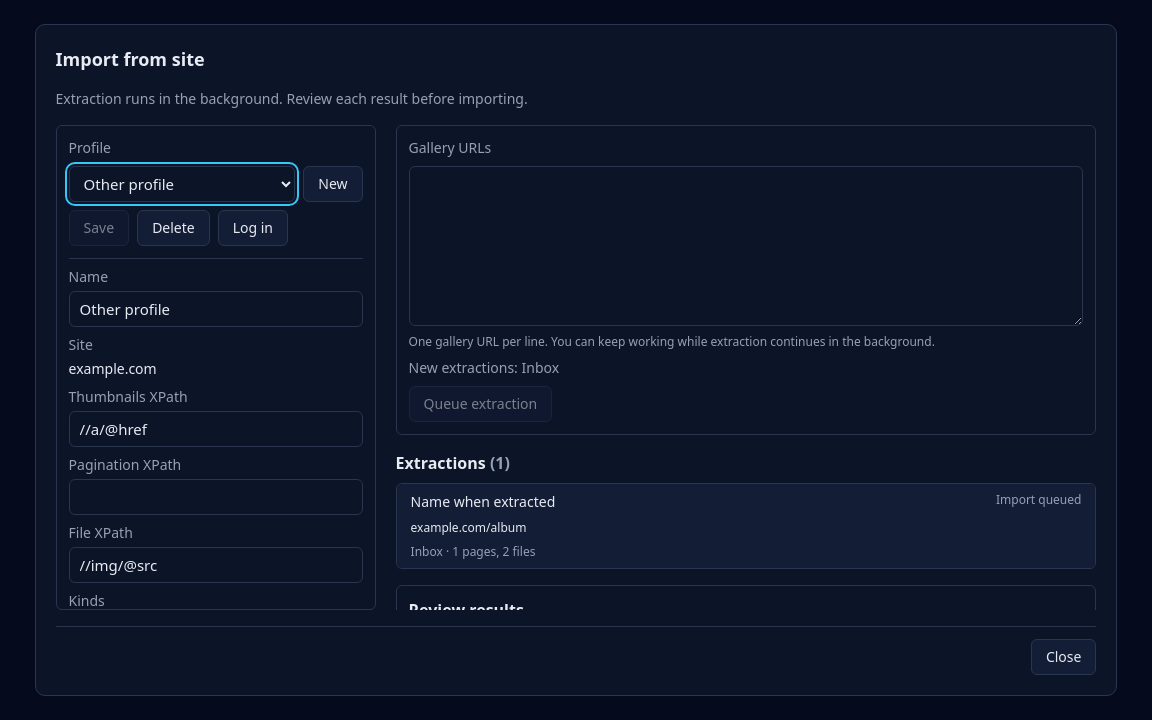
loads the selected extraction live profile for editing instead of the first profile
The width and height of the screenshot is (1152, 720).
Check: the field labelled "Name" holds "Other profile", box [69,291,363,327]
Click the button that starts with "Name when extracted": (483, 502) [397,484,1096,568]
(page scrolled)
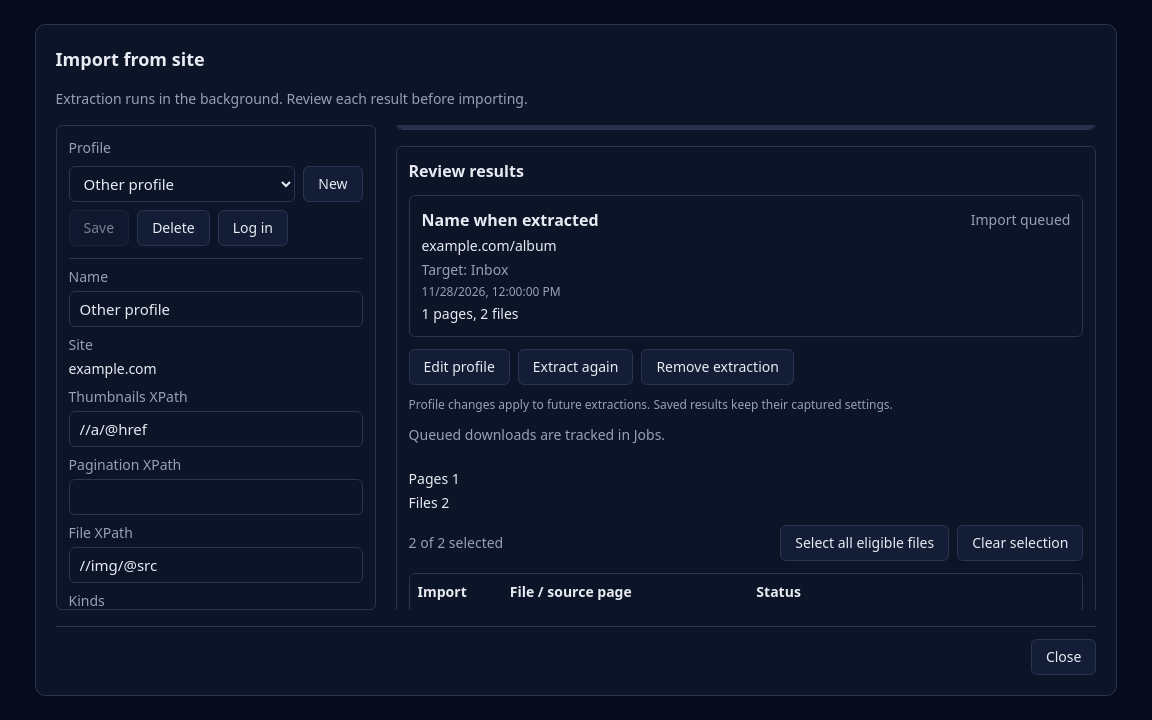
Click the button "Edit profile": (459, 367) [409,349,510,385]
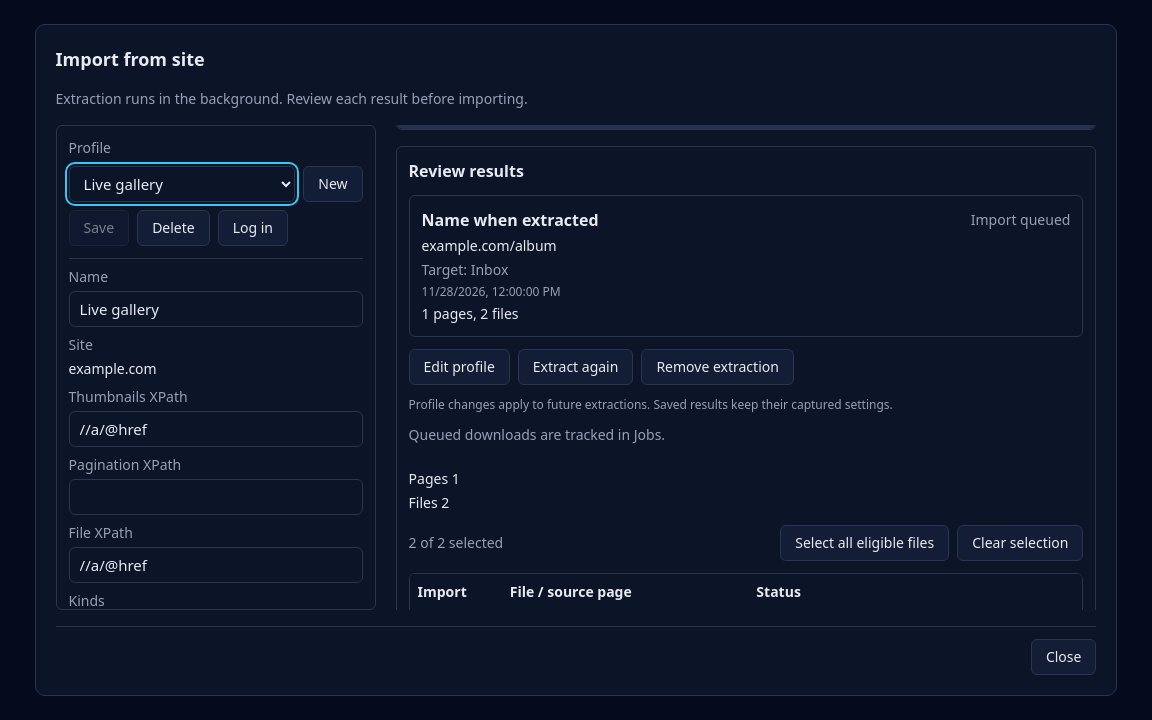
Check: the text "Profile changes apply to future extractions. Saved results keep their captured settings." is shown, box [409,396,893,413]
Check: the field labelled "Name" holds "Live gallery", box [69,291,363,327]
Check: the field labelled "File XPath" holds "//a/@href", box [69,547,363,583]
